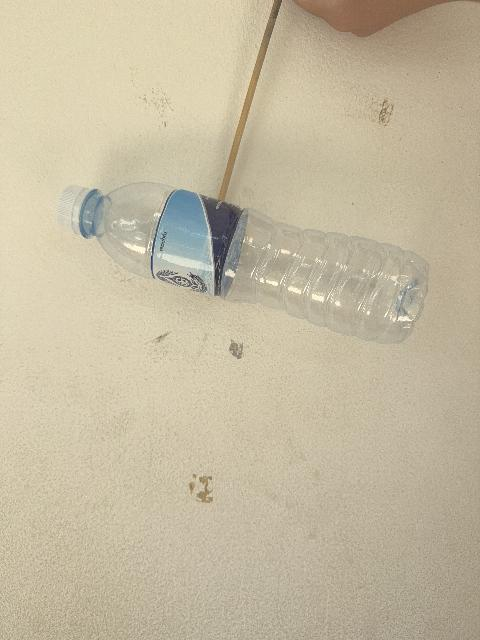bottle: (56, 183, 427, 342)
